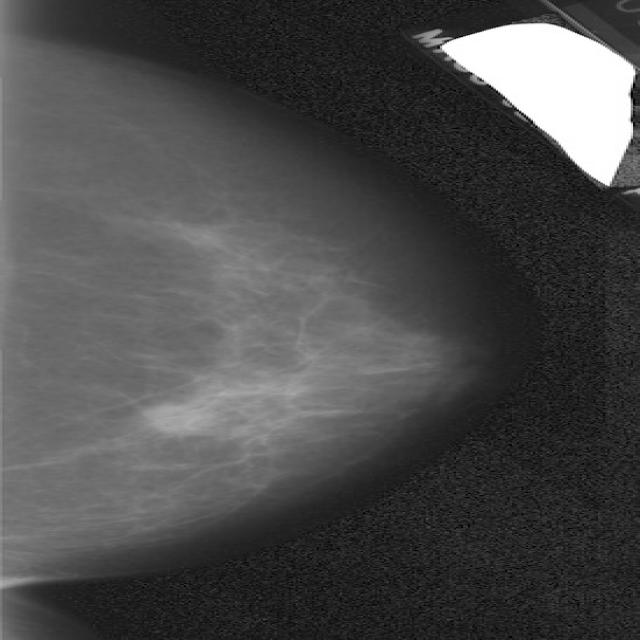tumour: (140, 404, 218, 434)
